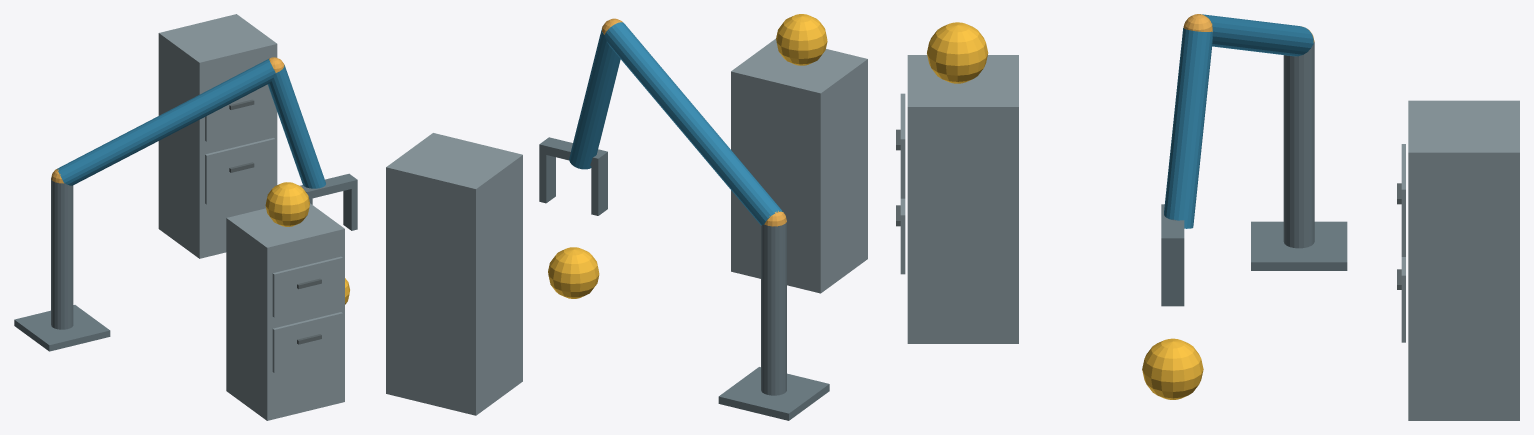
3 views of the same model, side by side, from view 1: azimuth 30°, elevation 25°; view 2: azimuth 150°, elevation 25°; view 3: azimuth 270°, elevation 25° (orthographic). The views are drawn at different scales.
Parts seen in each view (by area): view 1: cabinet_1 body, cabinet_2 body, moving link 1, cabinet_2 drawer front, fixed post, cabinet_1 drawer front.001, cabinet_1 drawer front, moving link 2, cabinet_2 drawer front.001, pedestal, released ball_1, gripper bridge (+1 smaller); view 2: cabinet_2 body, cabinet_1 body, moving link 1, fixed post, moving link 2, pedestal, released ball_1, ball ball_2, gripper finger -1, gripper bridge, gripper finger 1; view 3: cabinet_2 body, cabinet_1 body, fixed post, moving link 2, pedestal, moving link 1, released ball_1, ball ball_2, gripper finger 1, gripper bridge, cabinet_1 drawer front.001.
Part boxes in pixels (bbox=[...]): cabinet_1 body: bbox=[226, 203, 344, 420]; cabinet_2 body: bbox=[158, 14, 277, 258]; moving link 1: bbox=[57, 59, 275, 185]; cabinet_2 drawer front: bbox=[205, 138, 275, 204]; fixed post: bbox=[51, 178, 73, 329]; cabinet_1 drawer front.001: bbox=[272, 256, 342, 317]; cabinet_1 drawer front: bbox=[272, 312, 342, 372]; moving link 2: bbox=[267, 65, 325, 188]; cabinet_2 drawer front.001: bbox=[205, 84, 275, 141]; pedestal: bbox=[14, 305, 110, 351]; released ball_1: bbox=[265, 182, 309, 226]; gripper bridge: bbox=[300, 173, 357, 198]; cabinet_2 body: bbox=[386, 133, 522, 415]; cabinet_1 body: bbox=[731, 38, 867, 293]; moving link 1: bbox=[604, 22, 783, 225]; fixed post: bbox=[761, 220, 786, 395]; moving link 2: bbox=[569, 29, 620, 169]; pedestal: bbox=[718, 367, 829, 420]; released ball_1: bbox=[776, 14, 827, 65]; ball ball_2: bbox=[548, 247, 599, 298]; gripper finger -1: bbox=[591, 161, 607, 215]; gripper bridge: bbox=[539, 137, 607, 167]; gripper finger 1: bbox=[539, 153, 555, 203]; cabinet_2 body: bbox=[1408, 100, 1519, 420]; cabinet_1 body: bbox=[907, 55, 1018, 343]; fixed post: bbox=[1283, 42, 1314, 248]; moving link 2: bbox=[1164, 28, 1213, 228]; pedestal: bbox=[1251, 221, 1347, 270]; moving link 1: bbox=[1200, 14, 1313, 56]; released ball_1: bbox=[927, 22, 988, 83]; ball ball_2: bbox=[1142, 338, 1203, 399]; gripper finger 1: bbox=[1161, 248, 1184, 306]; gripper bridge: bbox=[1161, 204, 1184, 248]; cabinet_1 drawer front.001: bbox=[900, 93, 905, 198].
Bounding box in the file's own units: 1.17 × 1.01 × 1.62.
